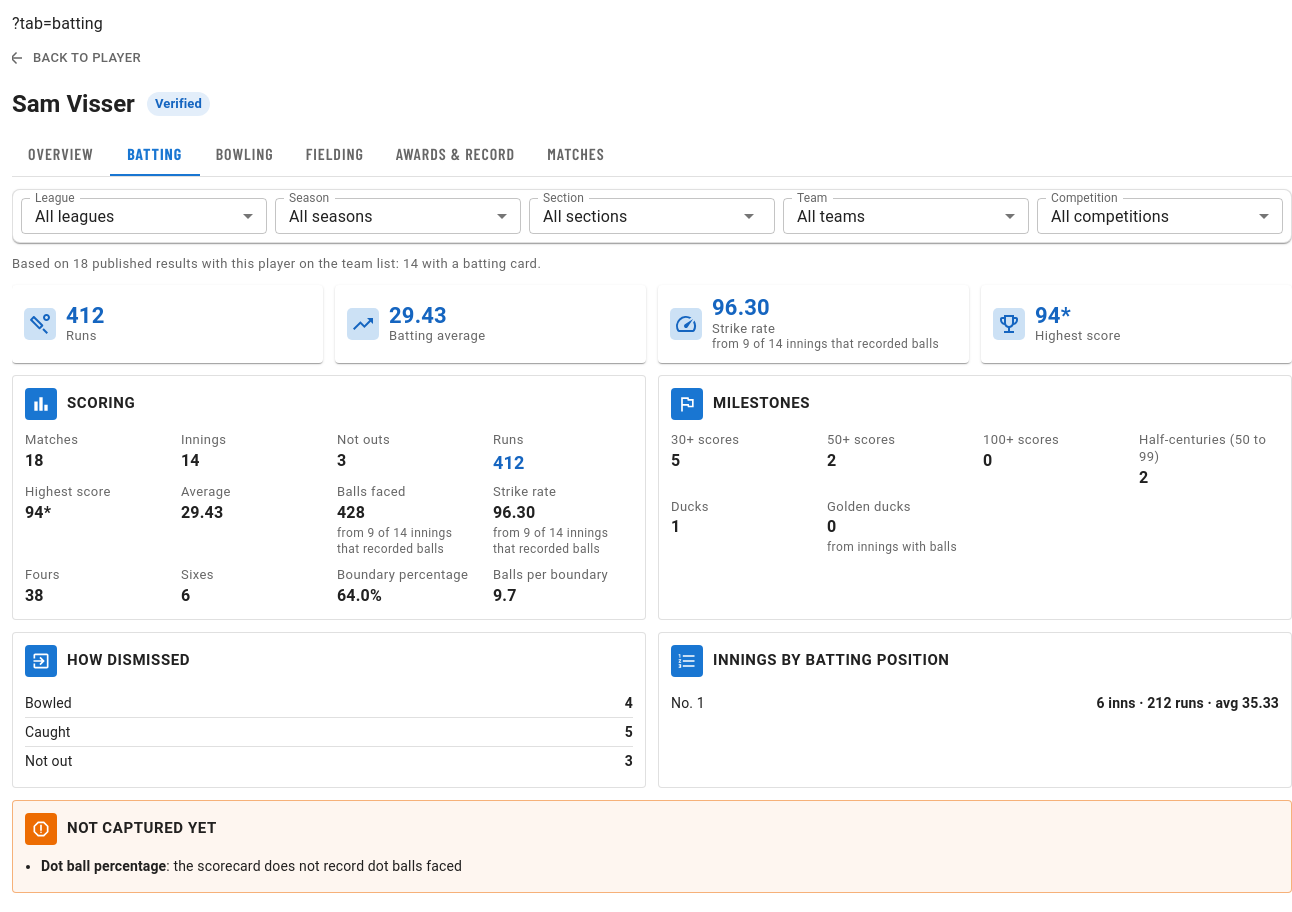
Test: PlayerStatsPage › basis and coverage › captions only the optional figures that part of the innings recorded
expect the text with test id "stats-basis" is shown: met, box 12,256 -> 541,271
expect the element with test id "player-info-field" shows "from 9 of 14 innings that recorded balls": met, box 337,526 -> 452,556
Click the tab "Bowling": (245, 154) 216,144 -> 274,163
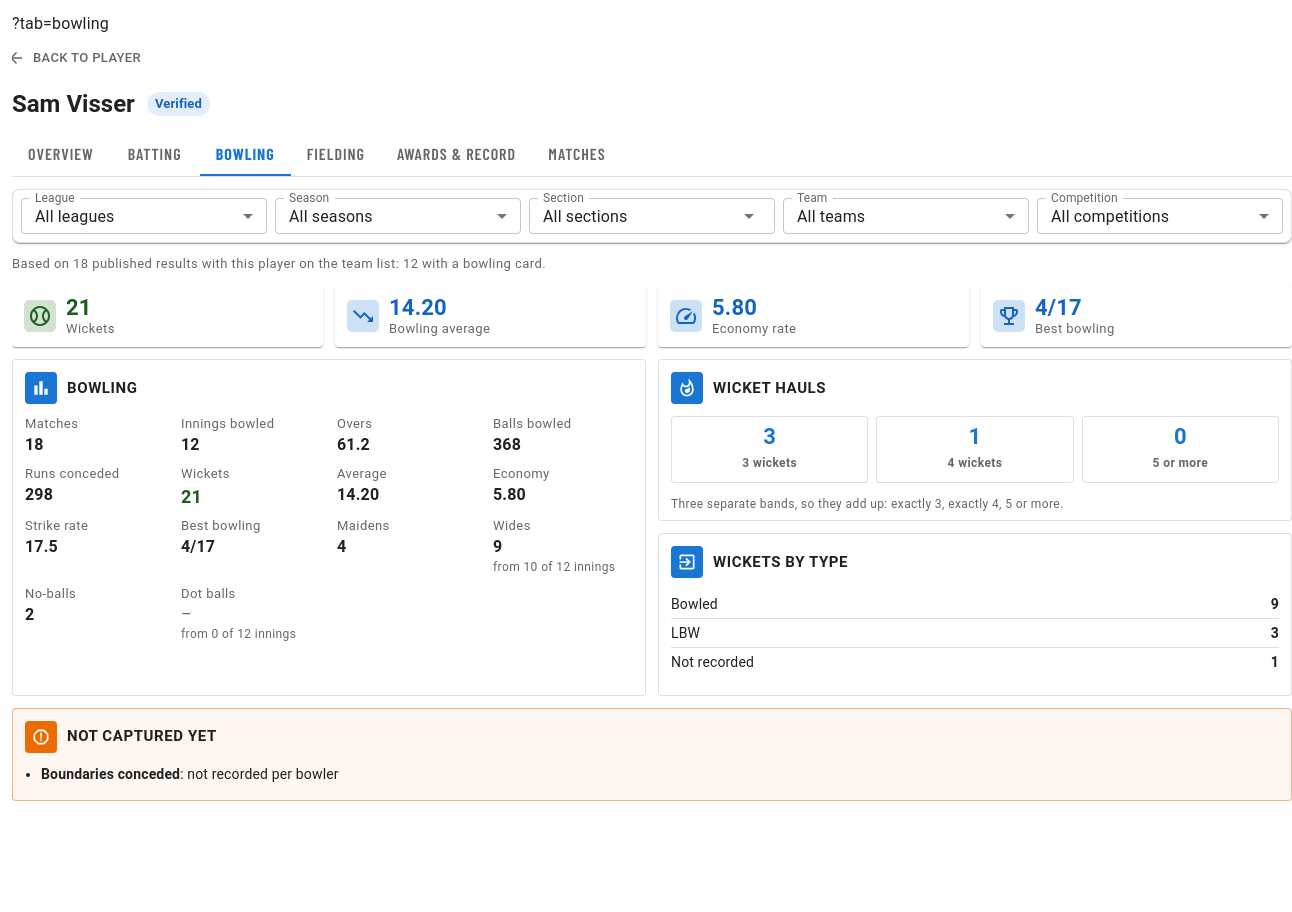
expect the element with test id "player-info-field" does not show "from": met, box 25,586 -> 76,624
expect the element with test id "player-info-field" shows "from 10 of 12 innings": met, box 493,560 -> 615,574
